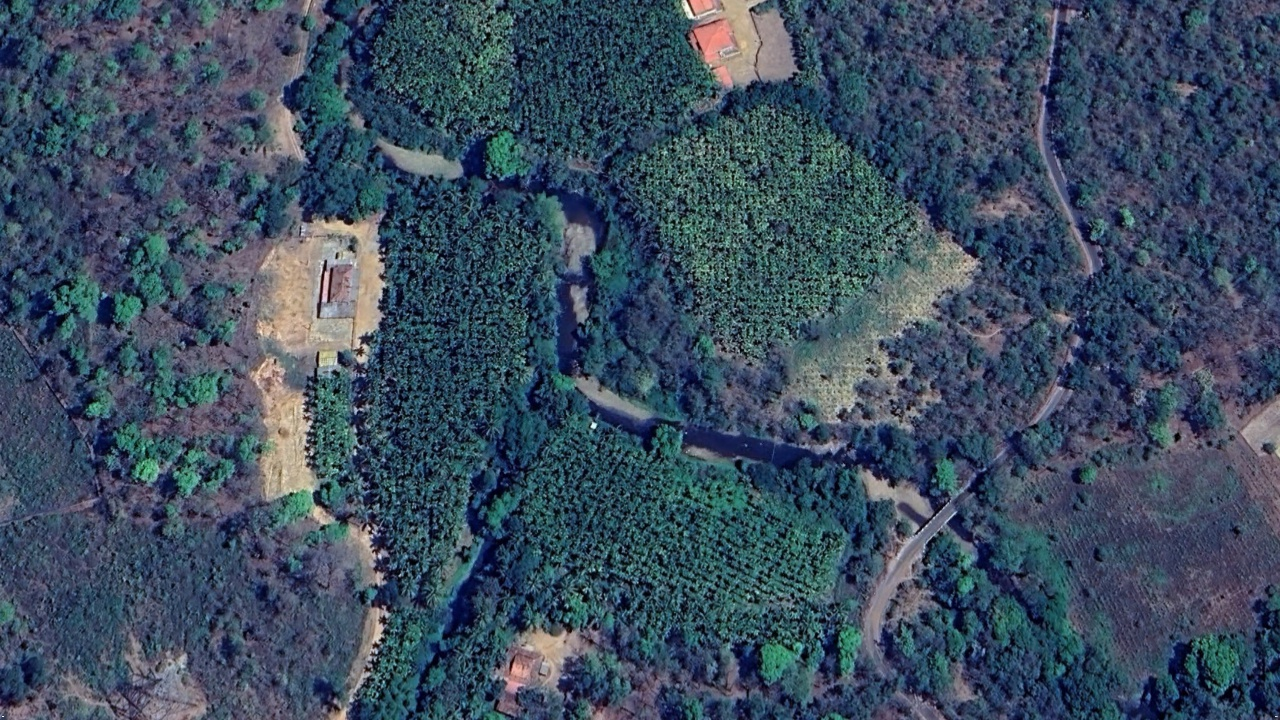arecanut: (315, 1, 933, 713)
